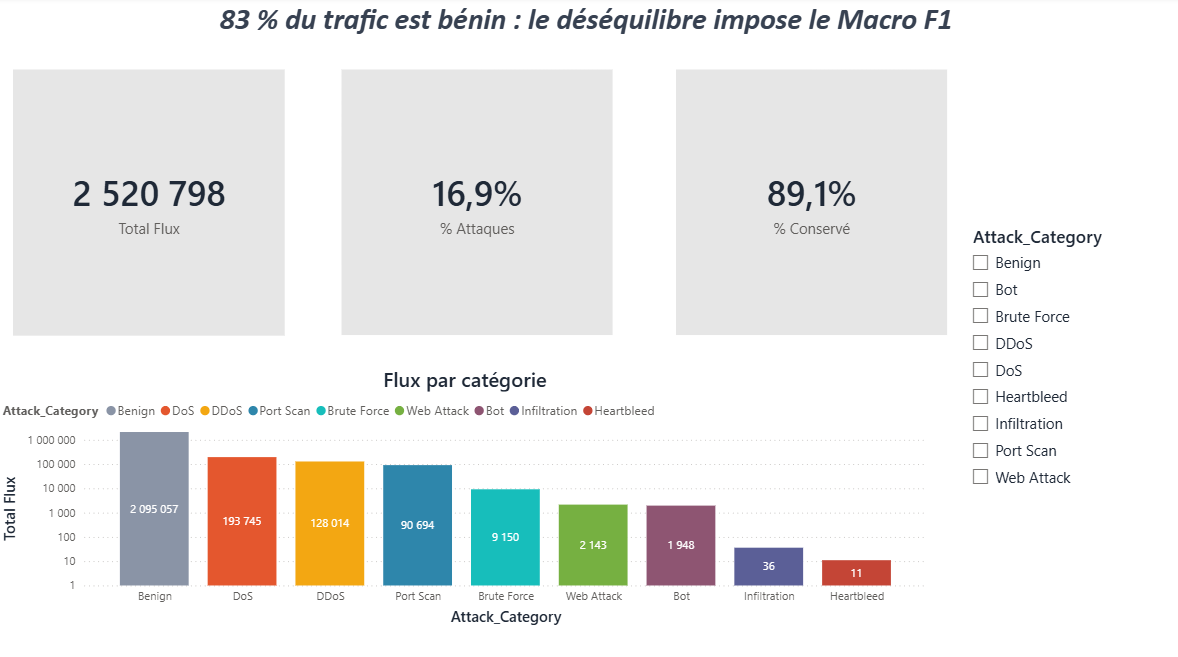

Layout of this report page (visuals, bound fields, positions):
{"tool":"powerbi","page":{"name":"Overview","canvas":[1280,720],"ordinal":0},"visuals":[{"type":"card","fields":{"Values":["attack_summary.Total Flux"]},"box":[16.3,80,293,287],"z":0},{"type":"card","fields":{"Values":["attack_summary.% Attaques"]},"box":[371,80,292.4,286.9],"z":1000},{"type":"card","fields":{"Values":["data_quality.% Conservé"]},"box":[732.4,80,292.4,286.9],"z":2000},{"type":"columnChart","title":"Flux par catégorie","fields":{"Category":["attack_summary.Attack_Category"],"Y":["attack_summary.Total Flux"],"Series":["attack_summary.Attack_Category"]},"box":[0,398,1008,286],"z":3000},{"type":"slicer","fields":{"Values":["attack_summary.Attack_Category"]},"box":[1040,242,240,310],"z":4000},{"type":"textbox","box":[132,0,1004,60],"z":5000}]}

Visuals, with their boxes in screenshot pixels (x1, y1, x2, y2), scaled from the page's 1280x720 canvas onto the 1178x657 screenshot:
card - attack_summary.Total Flux: bbox=[15, 73, 285, 335]
card - attack_summary.% Attaques: bbox=[341, 73, 611, 335]
card - data_quality.% Conservé: bbox=[674, 73, 943, 335]
"Flux par catégorie" columnChart: bbox=[0, 363, 928, 624]
slicer - attack_summary.Attack_Category: bbox=[957, 221, 1177, 504]
textbox: bbox=[121, 0, 1045, 55]
